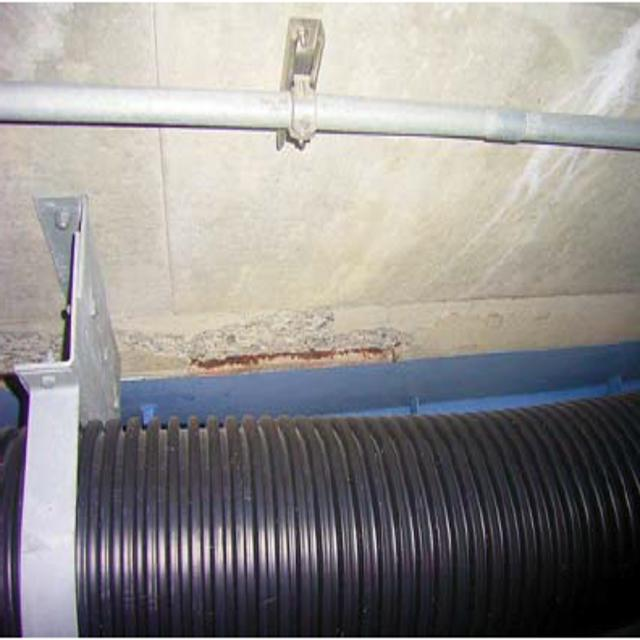spalling: (134, 318, 450, 372)
